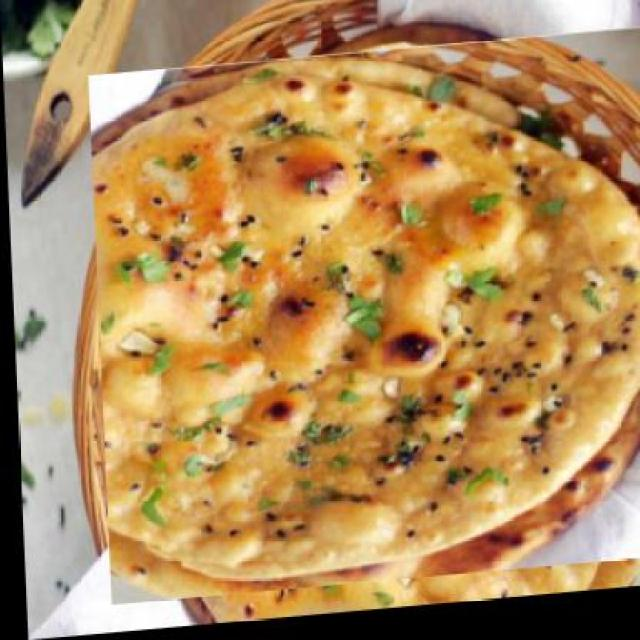chapati: (97, 24, 638, 622)
